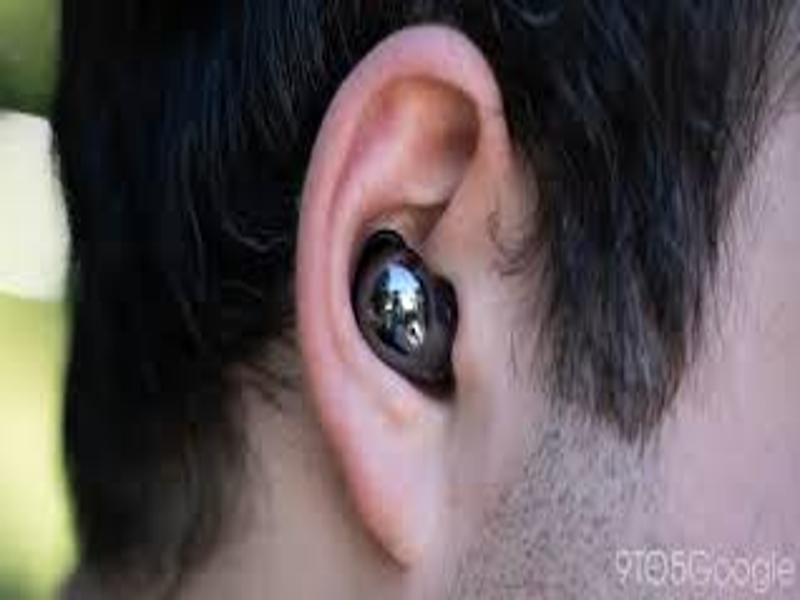headphone: (350, 232, 466, 385)
